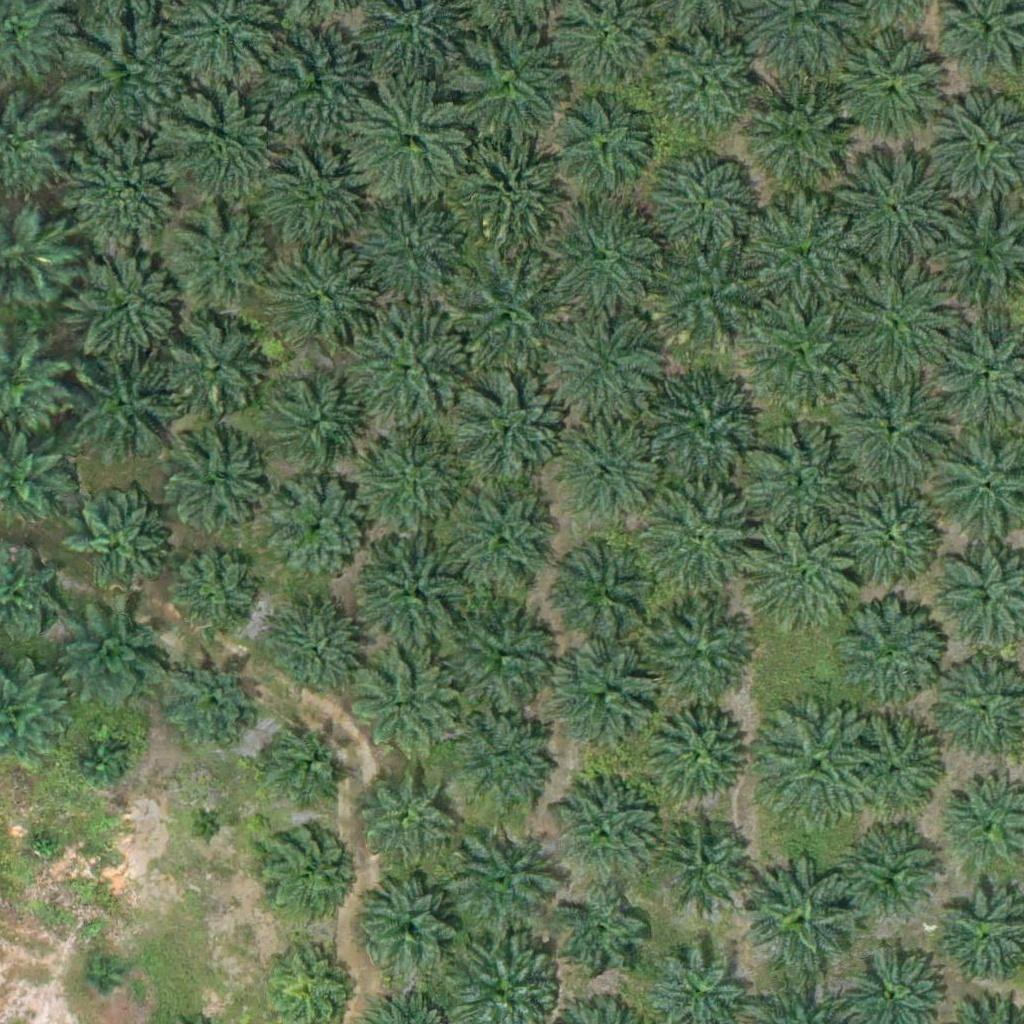Kelapa_Sawit: (68, 16, 193, 142), (65, 125, 190, 251), (156, 90, 281, 216), (349, 529, 474, 655), (346, 422, 471, 548), (346, 300, 471, 426), (348, 80, 473, 206), (456, 121, 581, 247), (446, 244, 571, 370), (447, 373, 572, 499), (440, 593, 565, 719), (542, 311, 667, 437), (543, 201, 668, 327), (640, 364, 765, 490), (636, 475, 761, 601), (744, 520, 869, 646), (737, 422, 862, 548), (829, 259, 954, 385), (831, 363, 956, 489), (827, 470, 952, 596), (823, 591, 948, 717), (752, 702, 877, 828), (60, 242, 185, 367), (830, 145, 955, 270), (349, 204, 462, 318), (69, 353, 182, 466), (60, 602, 173, 715), (445, 486, 558, 599), (651, 29, 764, 142), (744, 193, 857, 306), (646, 148, 759, 261), (653, 246, 766, 359), (550, 776, 663, 889), (447, 707, 560, 820), (444, 825, 557, 938), (747, 853, 859, 967), (454, 31, 566, 144), (552, 536, 664, 649), (744, 72, 856, 185), (641, 602, 753, 715), (840, 34, 952, 147), (349, 652, 461, 765), (68, 493, 168, 594), (165, 441, 265, 542), (163, 320, 263, 421), (168, 208, 268, 309), (276, 250, 376, 351), (269, 479, 369, 580), (265, 604, 365, 705), (554, 98, 654, 199), (752, 299, 852, 400), (843, 709, 943, 810), (553, 888, 653, 989), (351, 758, 451, 859), (362, 875, 462, 976), (254, 713, 354, 814), (256, 819, 356, 920), (257, 143, 357, 243), (564, 431, 664, 531), (846, 824, 946, 924), (646, 704, 746, 804), (655, 812, 755, 912), (558, 648, 658, 748), (267, 30, 366, 130), (272, 384, 360, 472), (169, 658, 256, 747), (168, 551, 255, 639), (75, 735, 125, 786), (27, 828, 65, 866), (189, 809, 227, 847), (79, 957, 116, 995)
